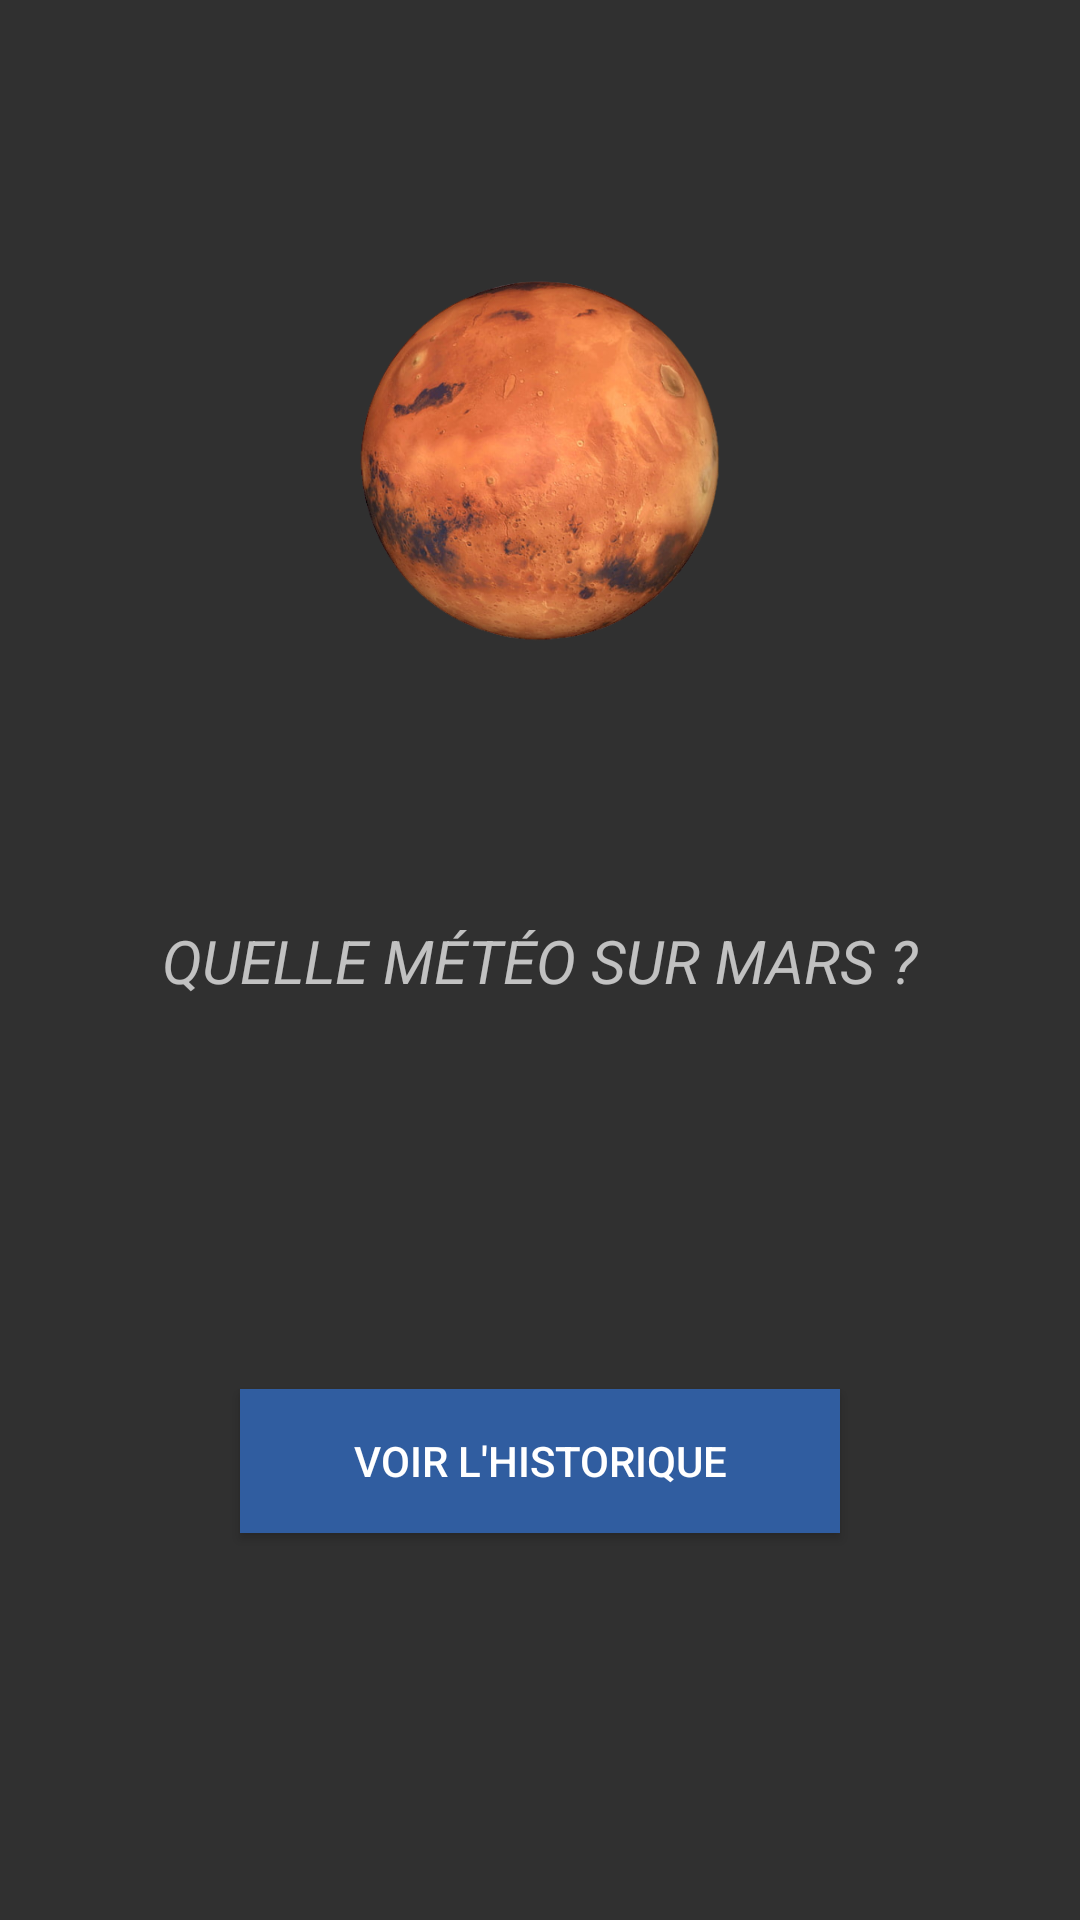

Icons on this 1080 x 1920 Android screen, each with the point to tap as [x,y]:
mars: [540,460]
